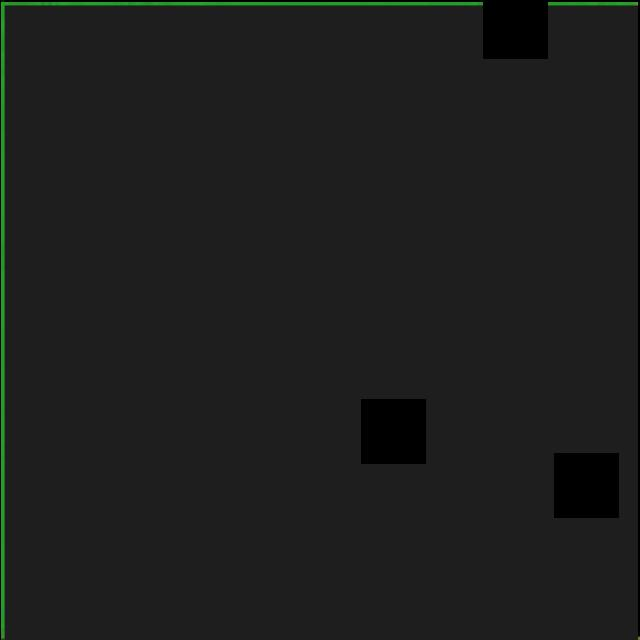nofire: (0, 2, 637, 640)
